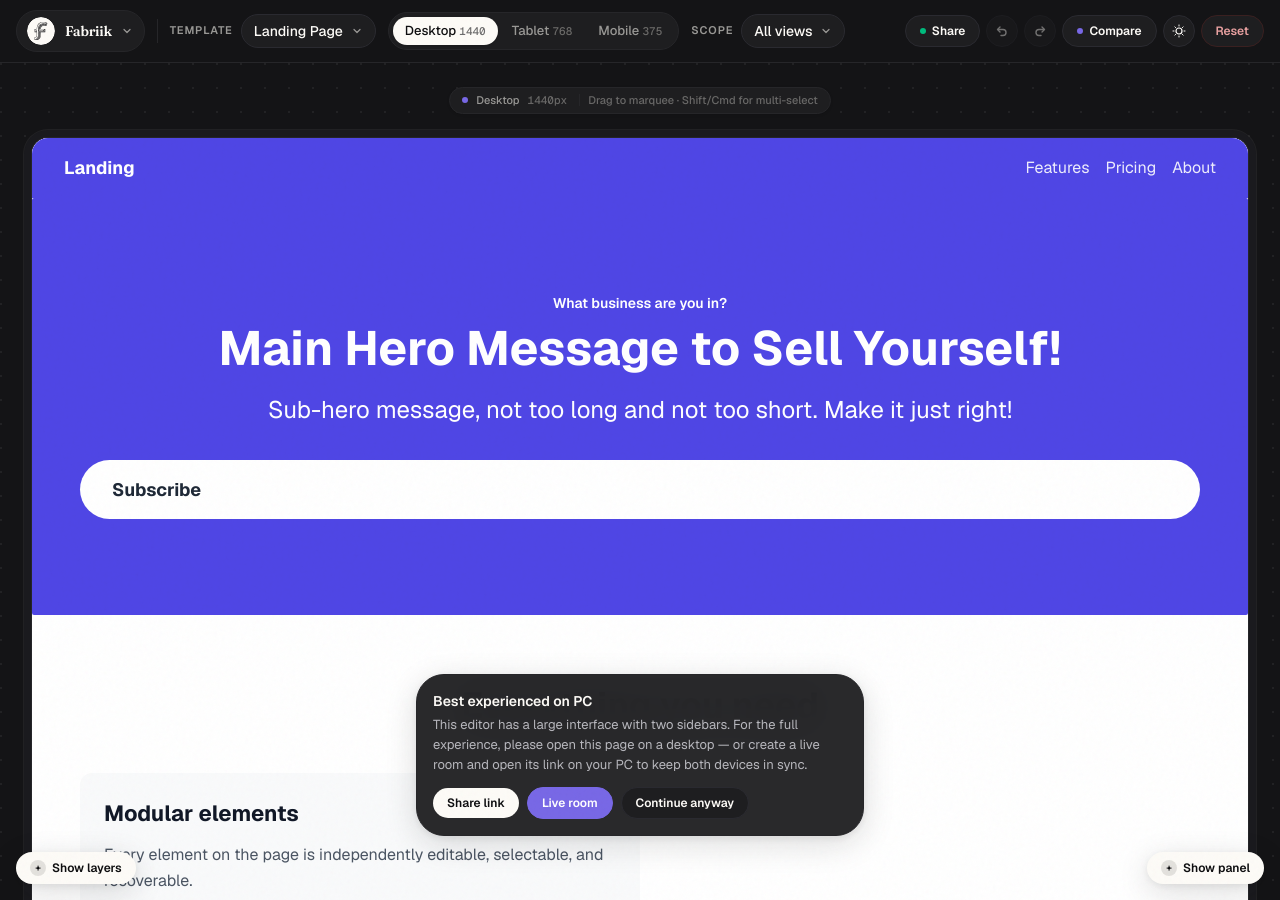
Test: EditorShell mobile experience › lets a mobile user reopen both sidebars after continuing
Click the button with test id "mobile-continue-button" at (685,803), box [621,787,749,819]
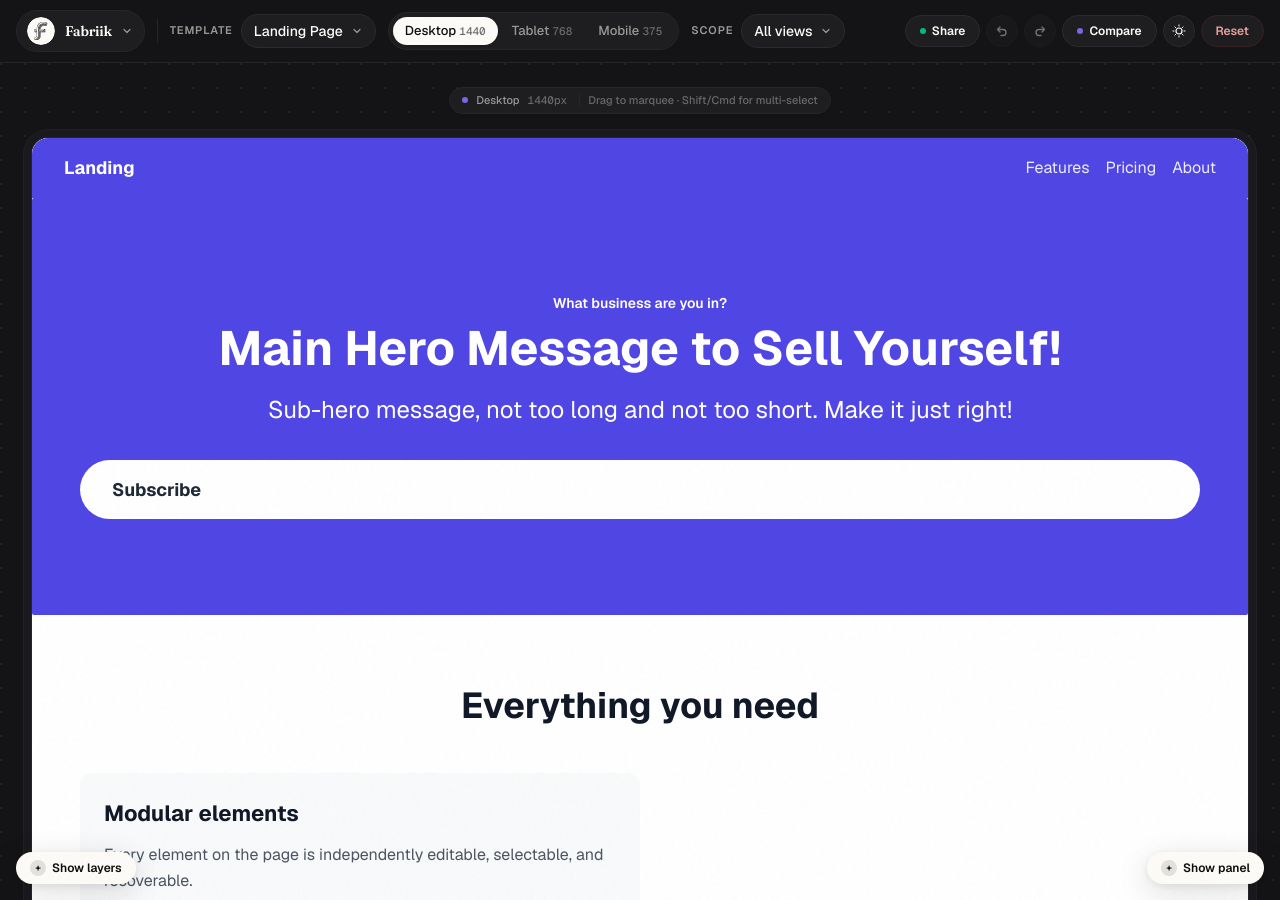
Click the button with aria-label "Show layers panel" at (76,868), box [16,852,136,884]
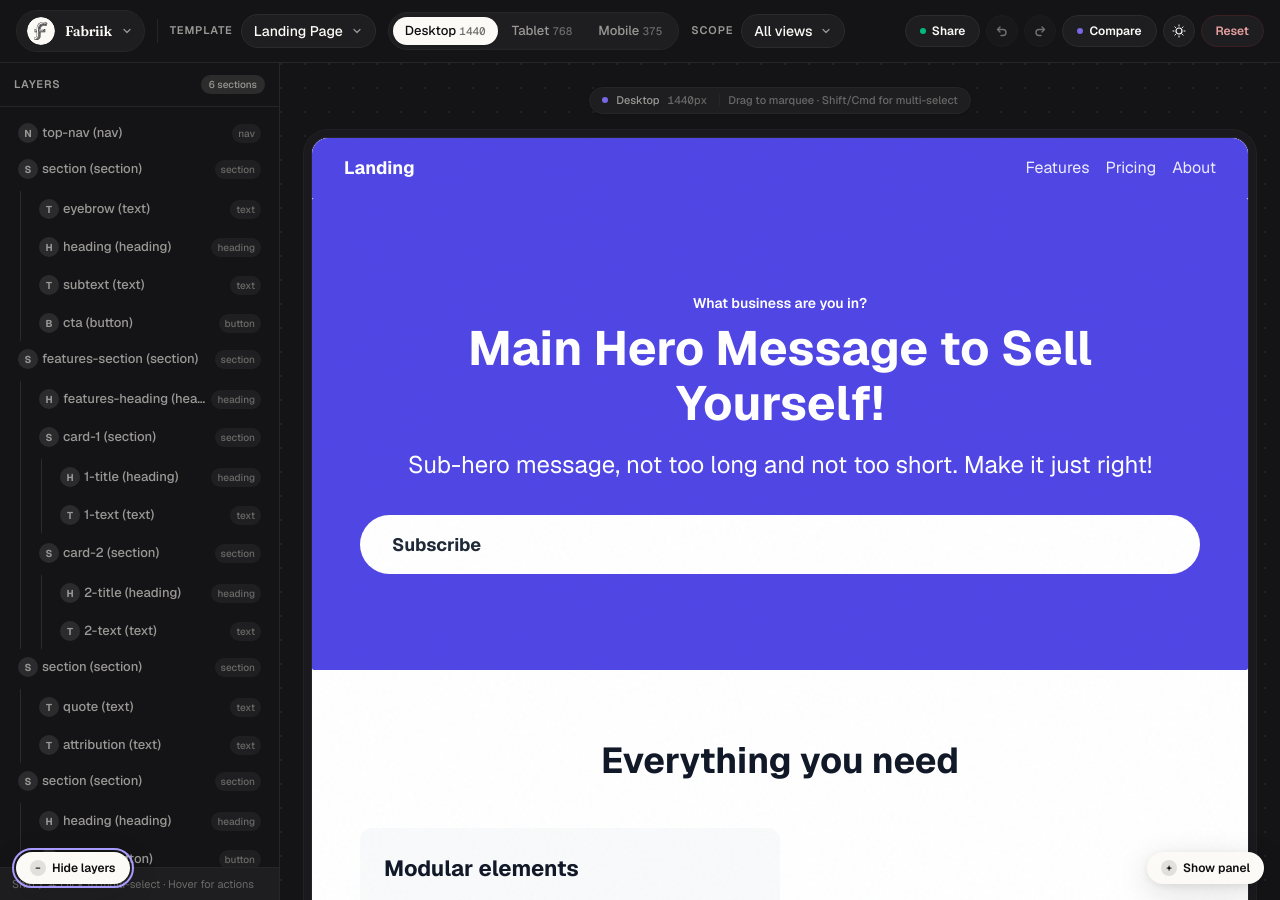
Click the button with aria-label "Show side panel" at (1206,868), box [1147,852,1264,884]
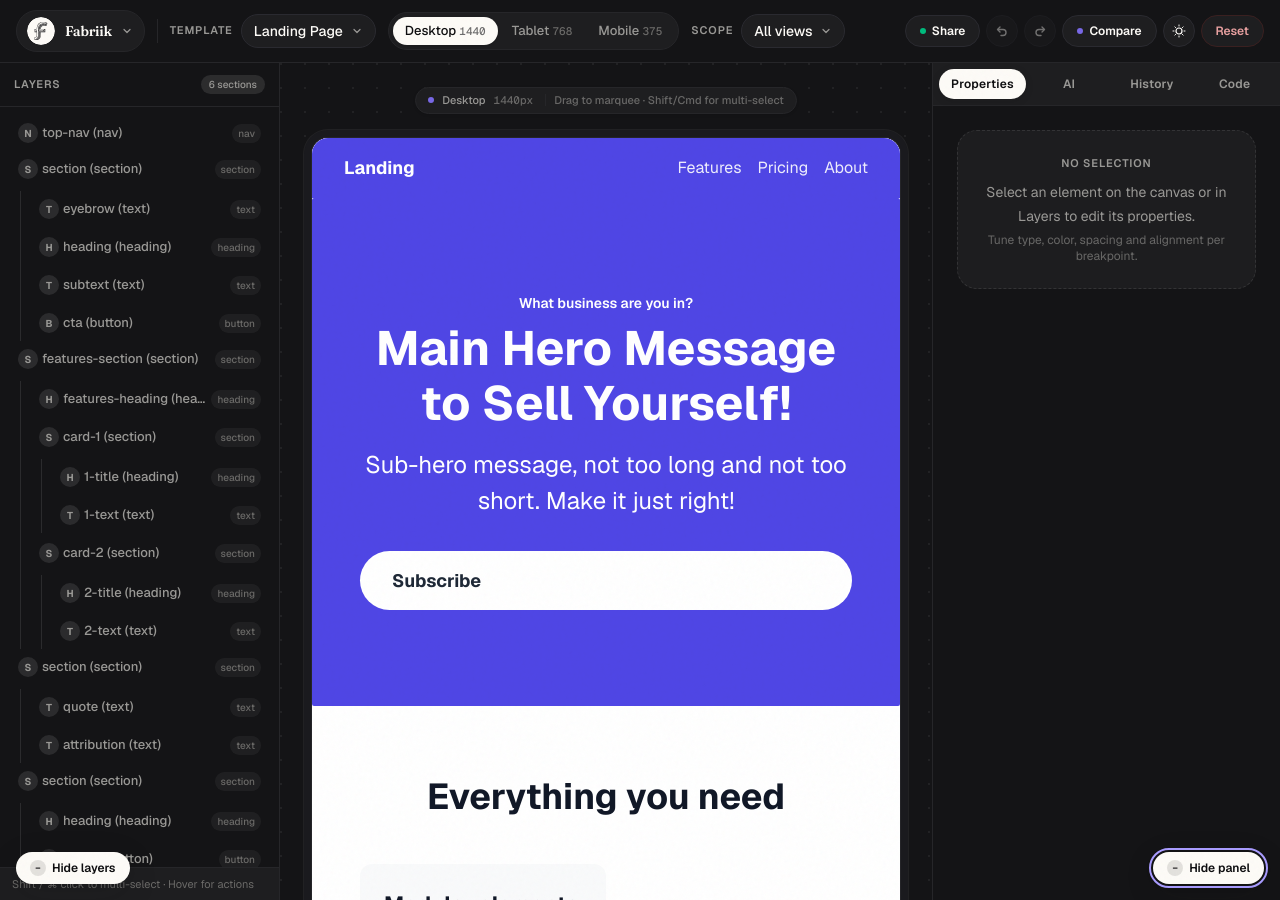
Now the element labelled "Layers" is shown, box [0,63,280,899]
Now the element named "Editor side panel" is shown, box [932,63,1279,899]
